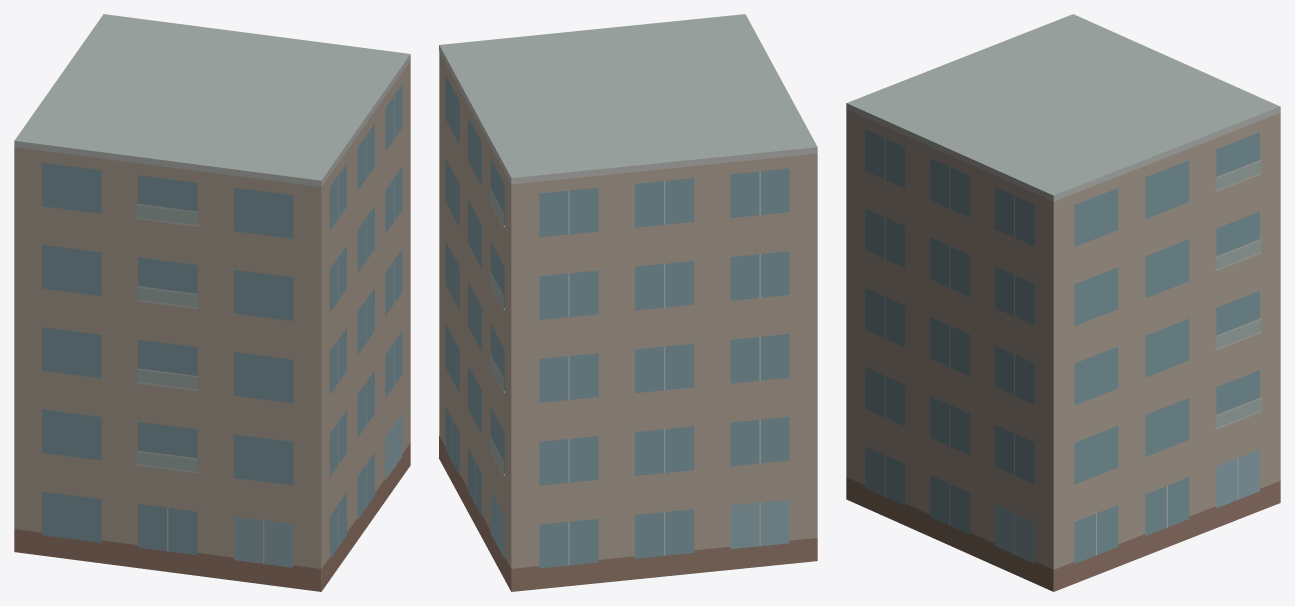
Rendered from survey-upis-32606316.glb.
The picture shows the model from 3 angles, left to right: view 1: azimuth 30°, elevation 25°; view 2: azimuth 150°, elevation 25°; view 3: azimuth 270°, elevation 25°; orthographic projection. The views are drawn at different scales.
Visible parts, largest first — view 1: survey-upis-32606316.tmp; view 2: survey-upis-32606316.tmp; view 3: survey-upis-32606316.tmp.
Part boxes in pixels (left/top/right/bottom): survey-upis-32606316.tmp: left=14, top=14, right=410, bottom=591; survey-upis-32606316.tmp: left=439, top=14, right=817, bottom=591; survey-upis-32606316.tmp: left=846, top=14, right=1280, bottom=591.
Bounding box in the file's own units: 15.54 × 15.8 × 15.69.
